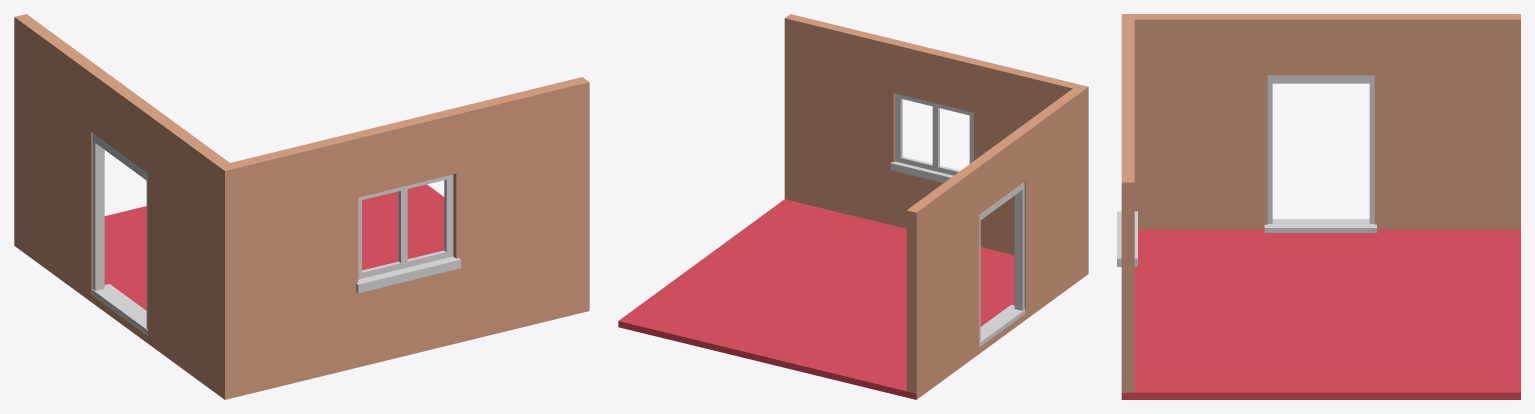
File: window_door.glb
3 views of the same model, side by side, from view 1: azimuth 30°, elevation 25°; view 2: azimuth 150°, elevation 25°; view 3: azimuth 270°, elevation 25° (orthographic). The views are drawn at different scales.
Parts seen in each view (by area): view 1: Cube; view 2: Cube; view 3: Cube.
Boxes of the visible parts, <box> form: Cube: <box>14,14,589,399</box>; Cube: <box>618,14,1088,399</box>; Cube: <box>1117,14,1520,399</box>.
Size of the model in its own units: 9 by 5.4 by 9.1.
